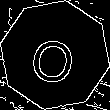O_N: (29, 25, 81, 85)
